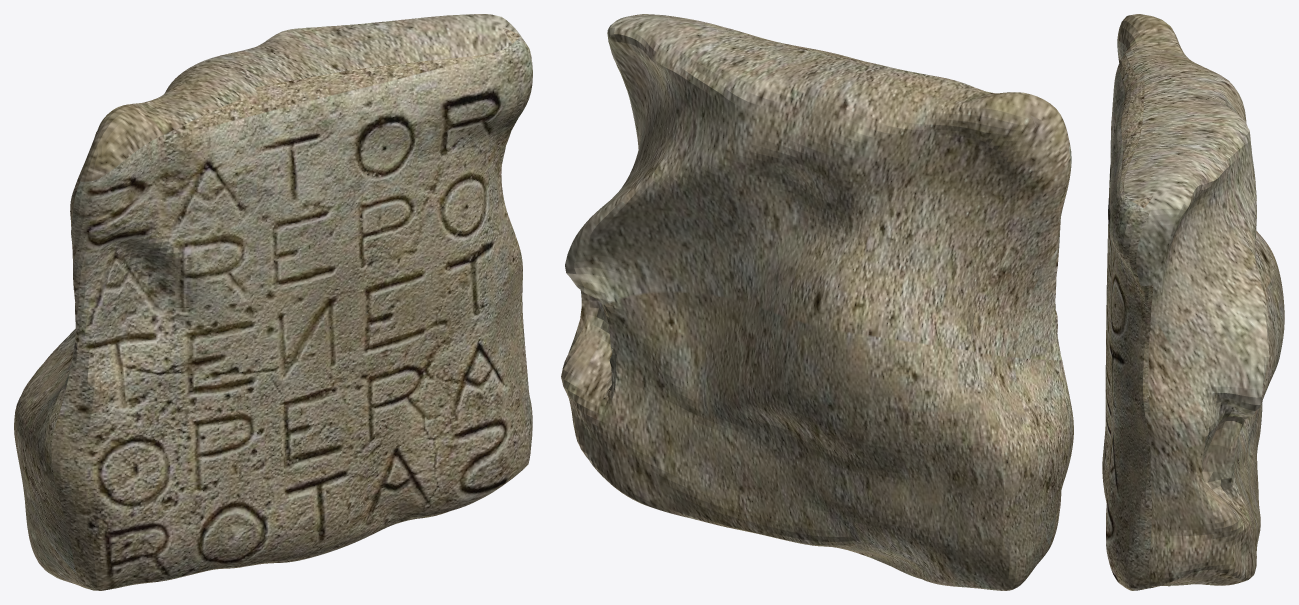
Rendered from TennetRocaV2.glb.
The picture shows the model from 3 angles, left to right: view 1: azimuth 30°, elevation 25°; view 2: azimuth 150°, elevation 25°; view 3: azimuth 270°, elevation 25°; orthographic projection. The views are drawn at different scales.
Visible parts, largest first — view 1: Cube; view 2: Cube; view 3: Cube.
Part boxes in pixels (bbox=[...]): Cube: bbox=[14, 14, 532, 590]; Cube: bbox=[561, 14, 1073, 590]; Cube: bbox=[1102, 14, 1284, 590].
Bounding box in the file's own units: 507 × 483 × 180.
Materials: 1 (1 with a texture image).
